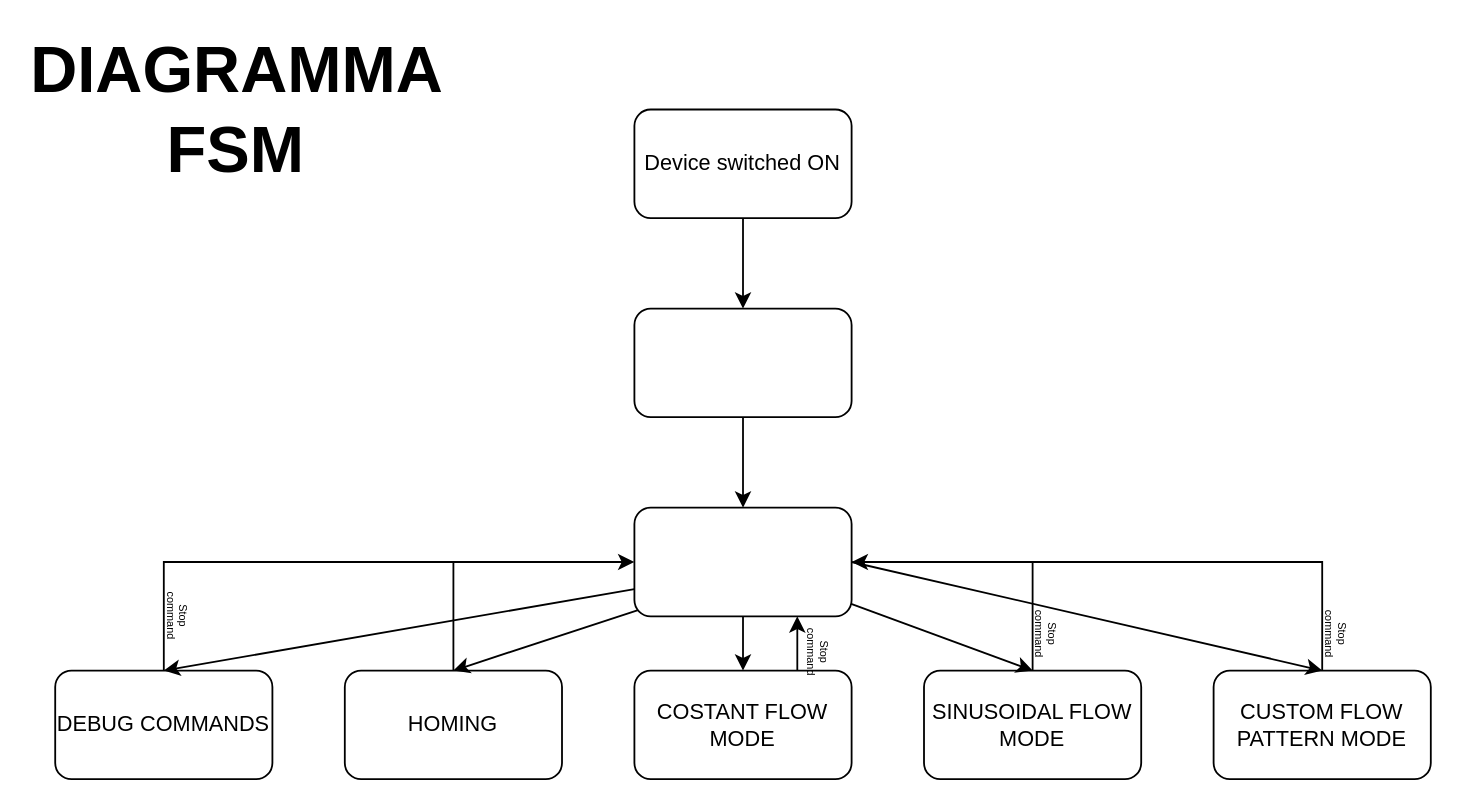
Image size: 1462x811. Some labels were removed from this diagram. Each missing label, with the centre of its shape:
"Ready for Control Status" belongs at point (742, 561).
"Self Test and Calibration" belongs at point (742, 362).
